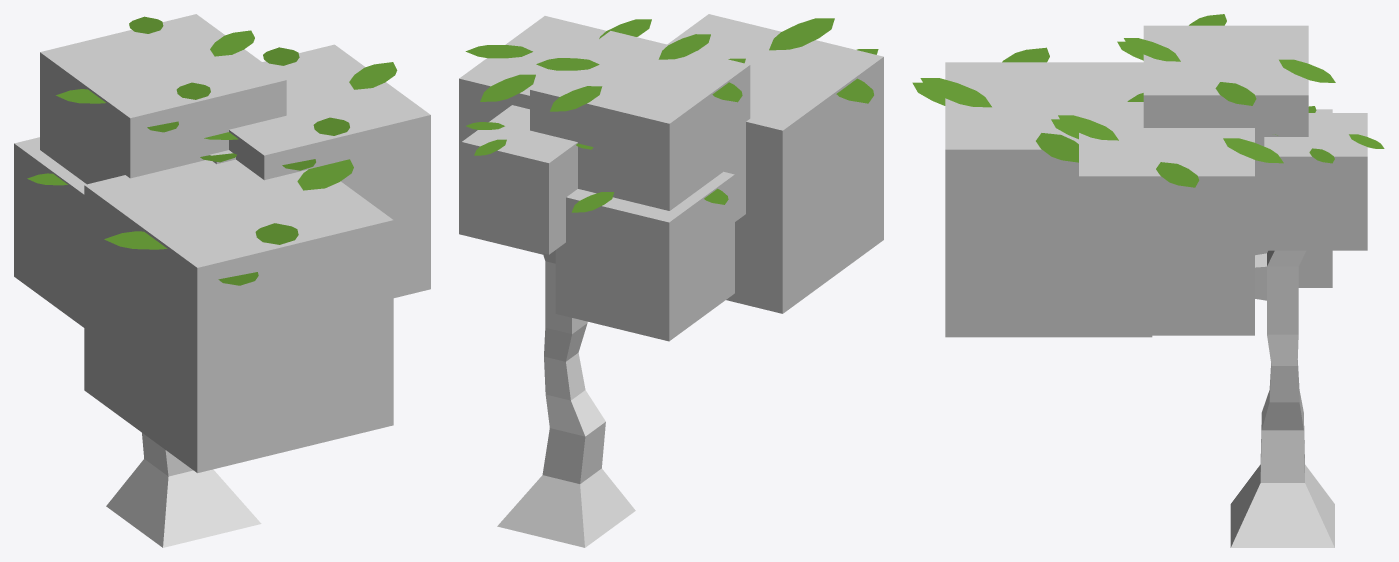
The model's file is Pohon.fbx.
3 views of the same model, side by side, from view 1: azimuth 30°, elevation 25°; view 2: azimuth 150°, elevation 25°; view 3: azimuth 270°, elevation 25° (orthographic). The views are drawn at different scales.
Parts seen in each view (by area): view 1: Cube.005, Cube.003, Cube.007, Cube.004, Cube.001, Plane.020, Plane.030, Plane.010, Plane.021, Plane.023, Plane.033, Plane.032; view 2: Cube.005, Cube.003, Cube.004, Cube.001, Cube.002, Cube.007, Plane.023, Plane.032, Plane.013, Plane.012, Plane.030, Plane.010 (+3 smaller); view 3: Cube.005, Cube.007, Cube.003, Cube.001, Cube.002, Cube.004, Plane.023, Plane.020, Plane.033, Plane.032, Plane.030, Plane.012 (+2 smaller).
Part boxes in pixels (x1=…): Cube.005: x1=84, y1=159, x2=393, y2=473; Cube.003: x1=40, y1=14, x2=286, y2=184; Cube.007: x1=229, y1=44, x2=430, y2=297; Cube.004: x1=14, y1=137, x2=86, y2=327; Cube.001: x1=106, y1=433, x2=261, y2=547; Plane.020: x1=297, y1=159, x2=353, y2=190; Plane.030: x1=349, y1=62, x2=397, y2=89; Plane.010: x1=210, y1=30, x2=254, y2=56; Plane.021: x1=104, y1=231, x2=167, y2=249; Plane.023: x1=255, y1=223, x2=298, y2=244; Plane.033: x1=313, y1=117, x2=349, y2=135; Plane.032: x1=263, y1=47, x2=299, y2=65; Cube.005: x1=667, y1=14, x2=883, y2=313; Cube.003: x1=530, y1=31, x2=750, y2=221; Cube.004: x1=555, y1=171, x2=734, y2=341; Cube.001: x1=497, y1=250, x2=635, y2=547; Cube.002: x1=461, y1=105, x2=577, y2=254; Cube.007: x1=459, y1=16, x2=606, y2=254; Plane.023: x1=769, y1=18, x2=834, y2=50; Plane.032: x1=480, y1=74, x2=535, y2=101; Plane.013: x1=658, y1=34, x2=710, y2=59; Plane.012: x1=550, y1=86, x2=602, y2=111; Plane.030: x1=465, y1=45, x2=532, y2=58; Plane.010: x1=536, y1=58, x2=599, y2=70; Cube.005: x1=945, y1=62, x2=1152, y2=337; Cube.007: x1=1079, y1=102, x2=1254, y2=335; Cube.003: x1=1143, y1=25, x2=1308, y2=244; Cube.001: x1=1230, y1=250, x2=1334, y2=547; Cube.002: x1=1264, y1=113, x2=1367, y2=250; Cube.004: x1=1255, y1=109, x2=1332, y2=287; Plane.023: x1=920, y1=78, x2=991, y2=107; Plane.020: x1=1036, y1=133, x2=1078, y2=162; Plane.033: x1=1058, y1=115, x2=1118, y2=140; Plane.032: x1=1223, y1=138, x2=1283, y2=163; Plane.030: x1=1156, y1=162, x2=1199, y2=187; Plane.012: x1=1279, y1=59, x2=1335, y2=82.
Size of the model in its own units: 756 by 970 by 915.
